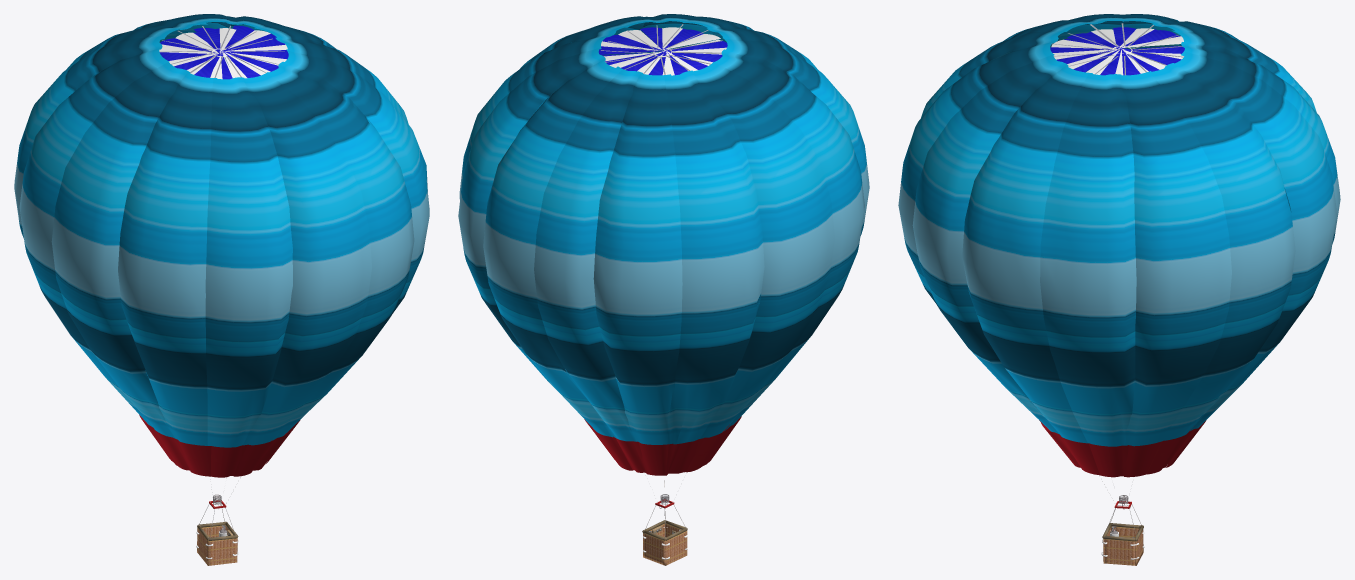
File: balao2.gltf
3 renders of one model, left to right at view 1: azimuth 30°, elevation 25°; view 2: azimuth 150°, elevation 25°; view 3: azimuth 270°, elevation 25°, orthographic.
Parts seen in each view (by area): view 1: Object_9; view 2: Object_9; view 3: Object_9.
Part boxes in pixels (x1,y1,x2,y2): Object_9: [14, 14, 429, 565]; Object_9: [458, 14, 869, 565]; Object_9: [898, 14, 1340, 565].
Bounding box in the file's own units: 0.1957 × 0.2725 × 0.2125.
33 materials, 17 textured.
